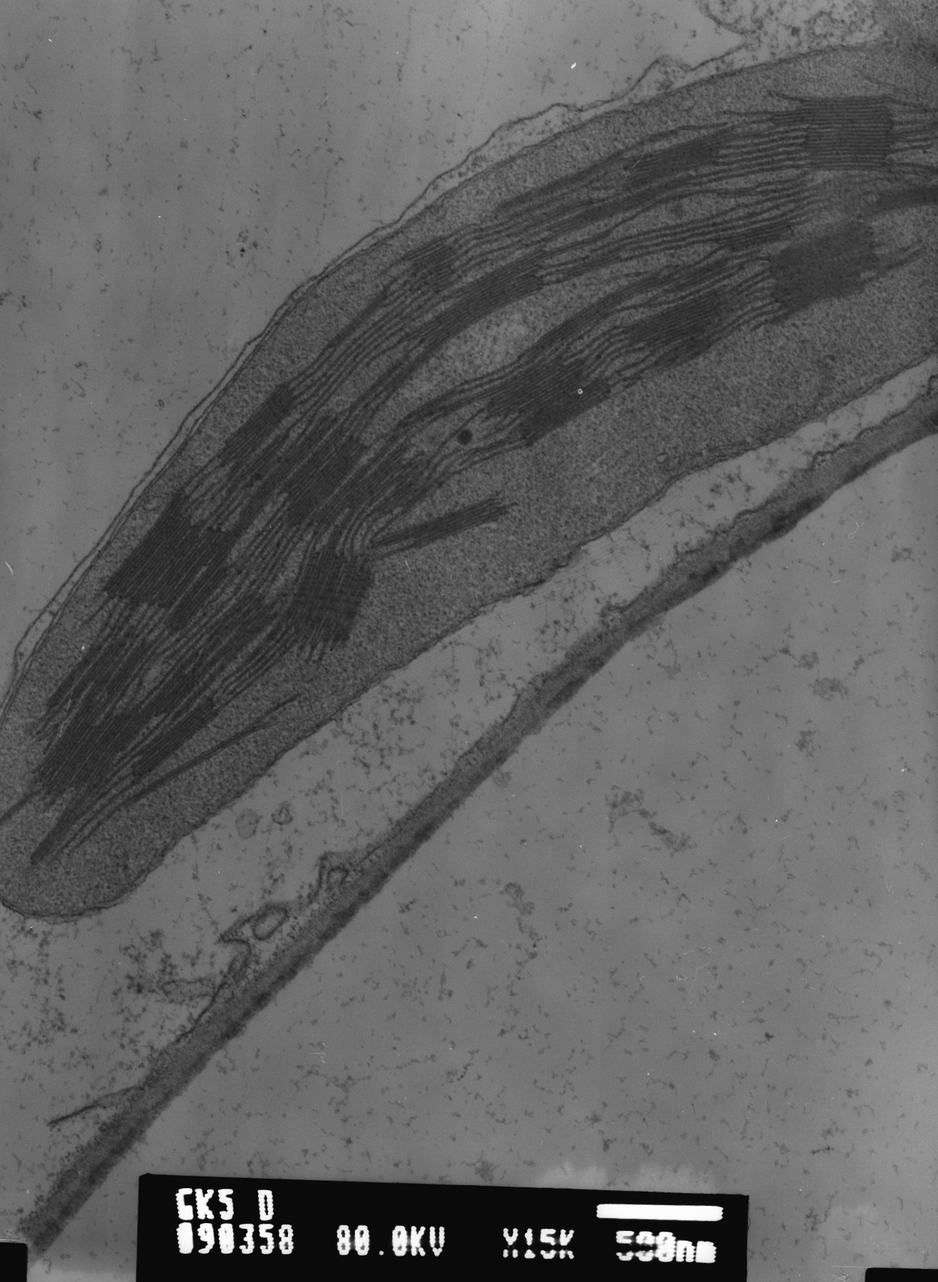granum: (380, 247, 554, 399), (102, 482, 240, 611), (26, 694, 121, 866), (229, 412, 343, 539), (472, 354, 613, 450), (519, 272, 666, 361), (274, 523, 378, 647), (765, 216, 885, 316), (767, 92, 910, 174), (545, 175, 693, 243), (279, 422, 372, 530), (615, 122, 739, 198), (308, 443, 408, 534), (128, 693, 222, 787), (370, 492, 511, 552), (620, 282, 737, 354), (214, 379, 300, 471), (202, 585, 280, 663), (494, 160, 608, 212), (159, 559, 236, 634), (362, 452, 445, 519), (145, 656, 217, 718), (327, 287, 391, 352), (401, 234, 469, 295), (69, 636, 128, 704), (43, 643, 103, 709), (507, 195, 591, 240), (383, 393, 446, 445), (105, 636, 155, 701), (857, 183, 938, 221), (665, 251, 729, 297), (96, 704, 154, 754), (238, 431, 288, 483), (653, 333, 714, 375), (723, 216, 794, 252), (559, 245, 625, 282)
